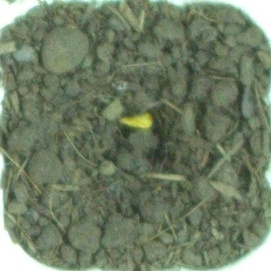chilli seed: (117, 108, 157, 131)
